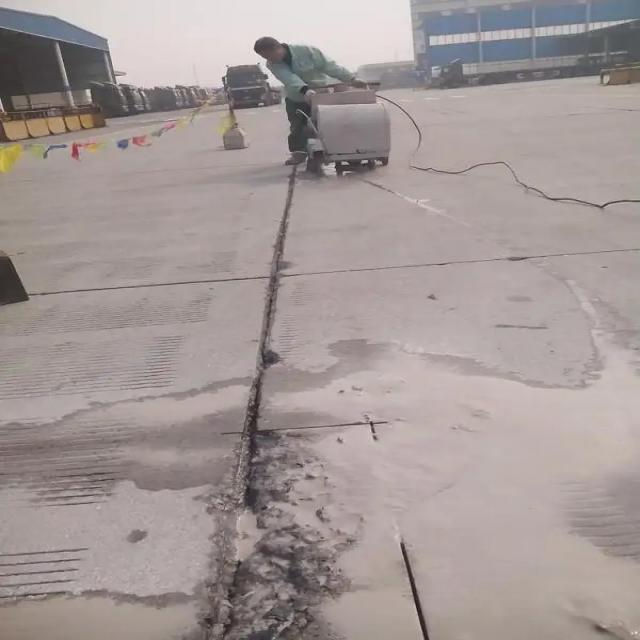Pothole: (223, 348, 373, 638)
